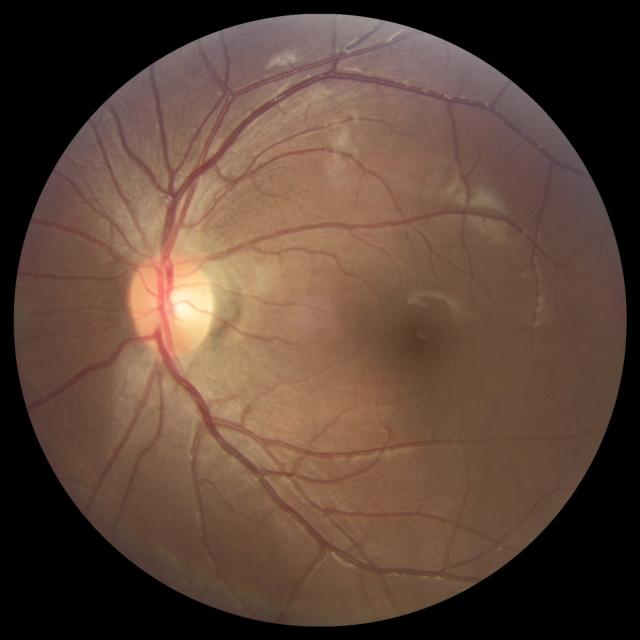OC: (159, 285, 195, 322)
OD: (129, 250, 211, 354)
